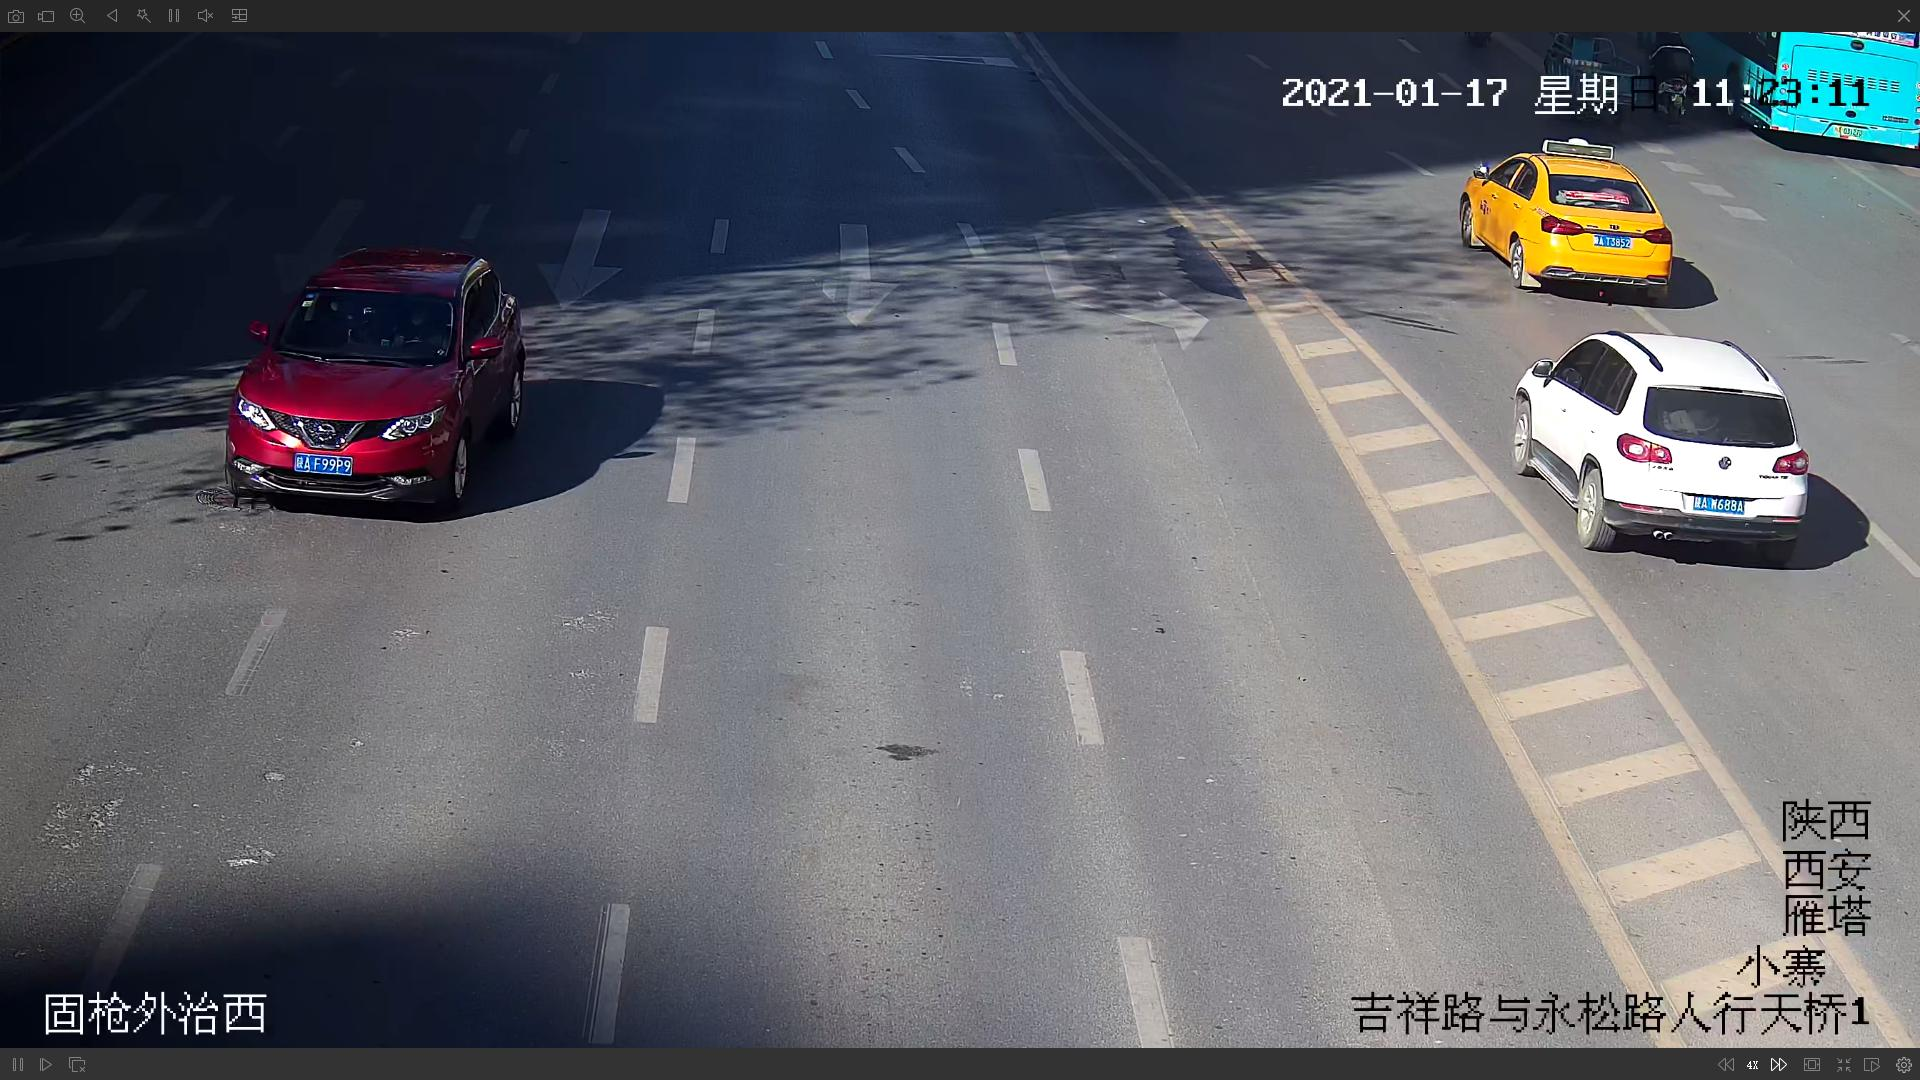dark-red: (222, 237, 525, 516)
